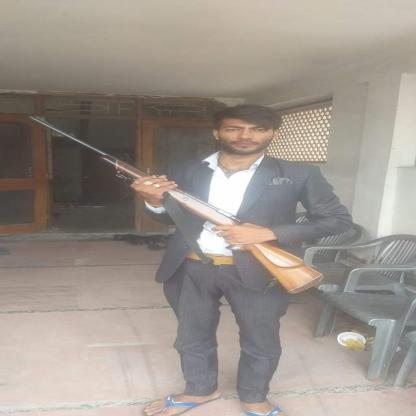rifle: (26, 113, 328, 296)
